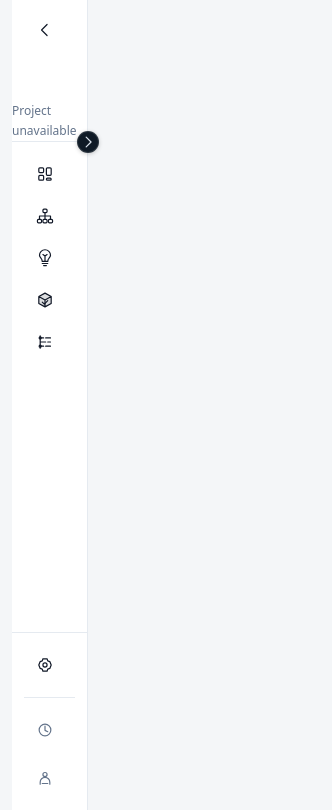
H15 reference curved tree geometry › G: flow-owned lane and next-group structure remain intact
Note: Closing removes the lane + branches + flyout.
Click the button named "Coordination" at x=50, y=216, box left=24, top=196, right=75, bottom=236
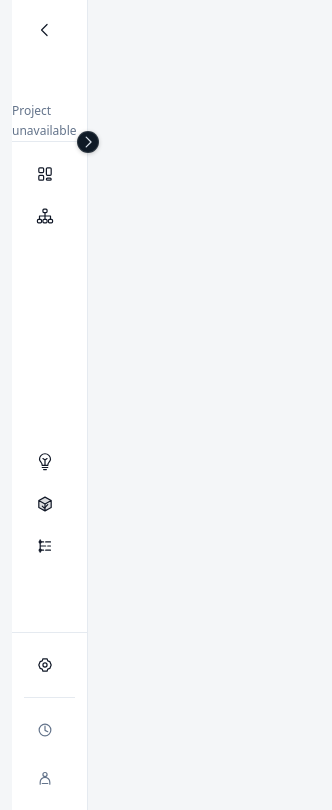
Click the button named "Coordination" at x=50, y=216, box left=24, top=196, right=75, bottom=236
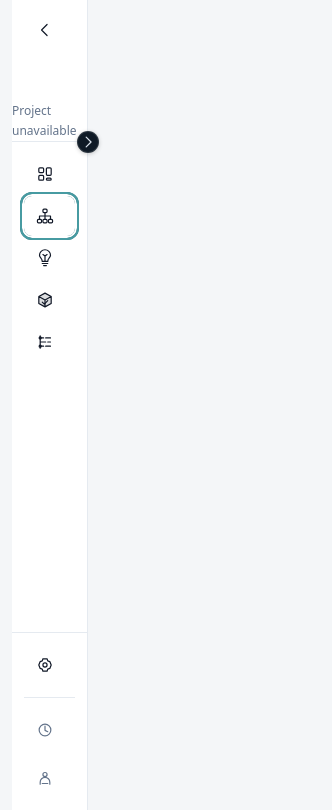
Now the element with test id "v4-minimal-subtree" is gone
